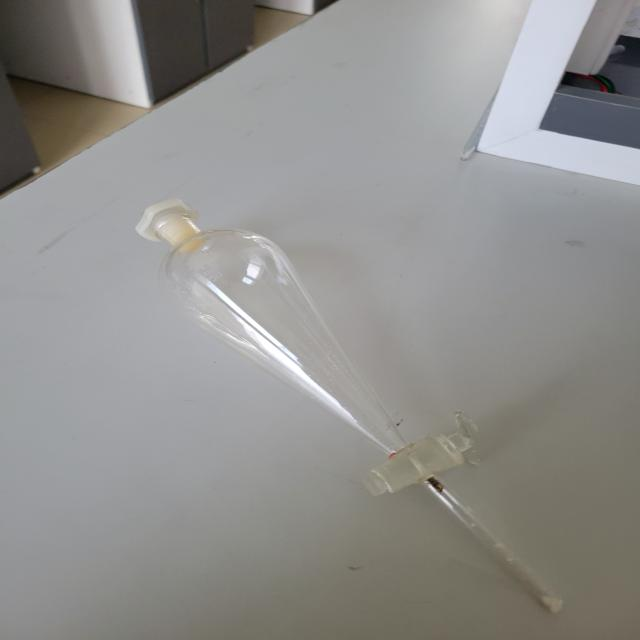Separating_Funnel: (83, 170, 582, 625)
